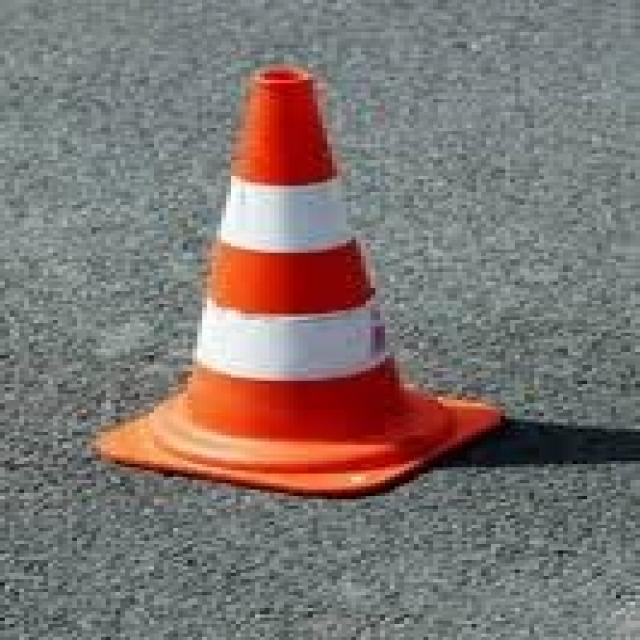Traffic-cone: (84, 17, 516, 510)
